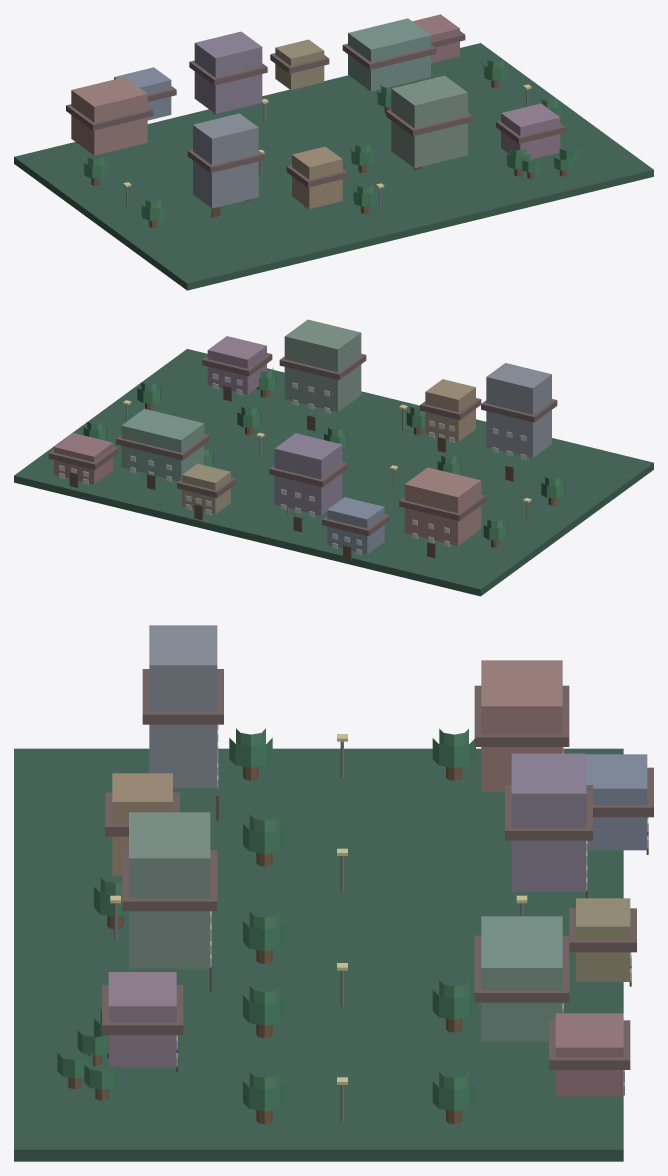
Rendered from demo-town2.gltf.
3 views of the same model, one above another, from view 1: azimuth 30°, elevation 25°; view 2: azimuth 150°, elevation 25°; view 3: azimuth 270°, elevation 25° (orthographic). The views are drawn at different scales.
Parts seen in each view (by area): view 1: RefinedTown; view 2: RefinedTown; view 3: RefinedTown.
Boxes of the visible parts, box(x1,y1,x2,y2) form: RefinedTown: box(14, 14, 653, 290); RefinedTown: box(14, 319, 653, 596); RefinedTown: box(14, 625, 653, 1161).
Size of the model in its own units: 140 by 31 by 94.5.
